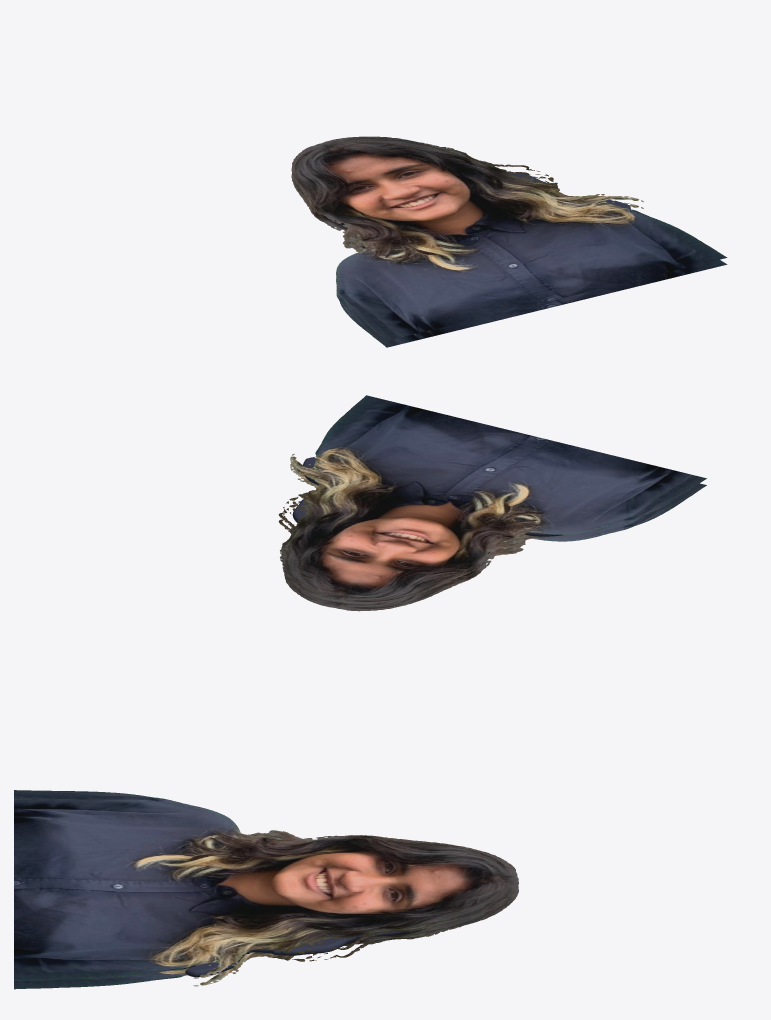
File: navya.fbx
3 renders of one model, top to bottom at view 1: azimuth 30°, elevation 25°; view 2: azimuth 150°, elevation 25°; view 3: azimuth 270°, elevation 25°, orthographic. The views are drawn at different scales.
Visible parts, largest first — view 1: WhatsApp_Image_2024-09-30_at_11.08.04_PM-removebg-preview, WhatsApp_Image_2024-09-30_at_11.08.04_PM-removebg-preview.00; view 2: WhatsApp_Image_2024-09-30_at_11.08.04_PM-removebg-preview, WhatsApp_Image_2024-09-30_at_11.08.04_PM-removebg-preview.00; view 3: WhatsApp_Image_2024-09-30_at_11.08.04_PM-removebg-preview, WhatsApp_Image_2024-09-30_at_11.08.04_PM-removebg-preview.00, Curve.
Boxes of the visible parts, <box> form: WhatsApp_Image_2024-09-30_at_11.08.04_PM-removebg-preview: <box>291,136,727,340</box>; WhatsApp_Image_2024-09-30_at_11.08.04_PM-removebg-preview.00: <box>291,171,727,347</box>; WhatsApp_Image_2024-09-30_at_11.08.04_PM-removebg-preview: <box>278,395,706,604</box>; WhatsApp_Image_2024-09-30_at_11.08.04_PM-removebg-preview.00: <box>278,458,706,611</box>; WhatsApp_Image_2024-09-30_at_11.08.04_PM-removebg-preview: <box>14,790,518,981</box>; WhatsApp_Image_2024-09-30_at_11.08.04_PM-removebg-preview.00: <box>14,886,518,989</box>; Curve: <box>154,931,408,977</box>.
Bounding box in the file's own units: 14 × 0.2164 × 18.65.
Materials: 2 (1 with a texture image).
